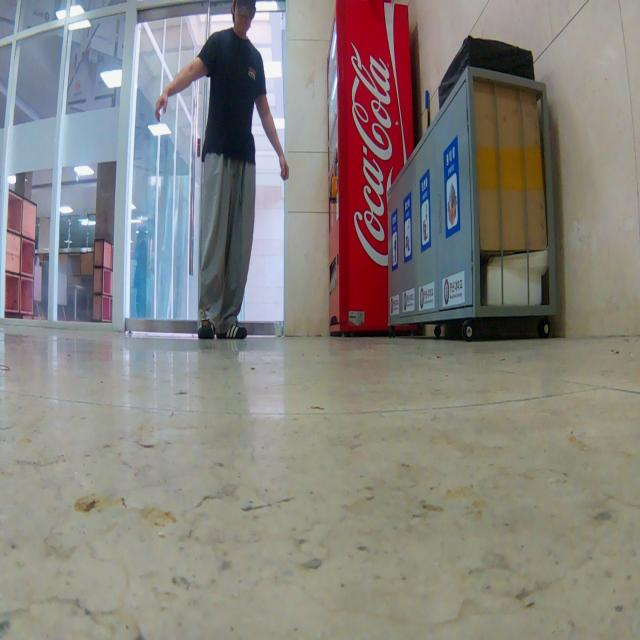target: (199, 304, 211, 328)
